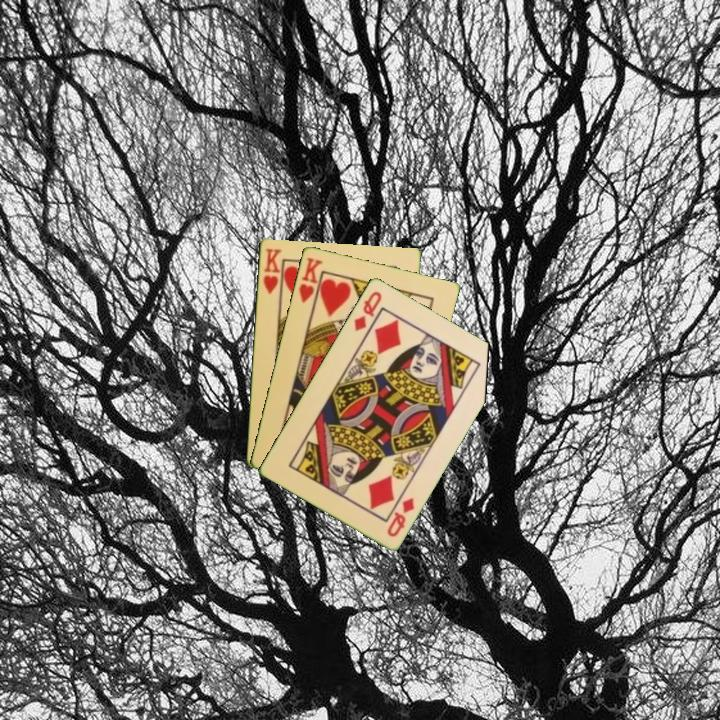Kh: (295, 253, 325, 310), (259, 244, 285, 301)
Qd: (350, 287, 385, 334), (383, 494, 417, 539)
